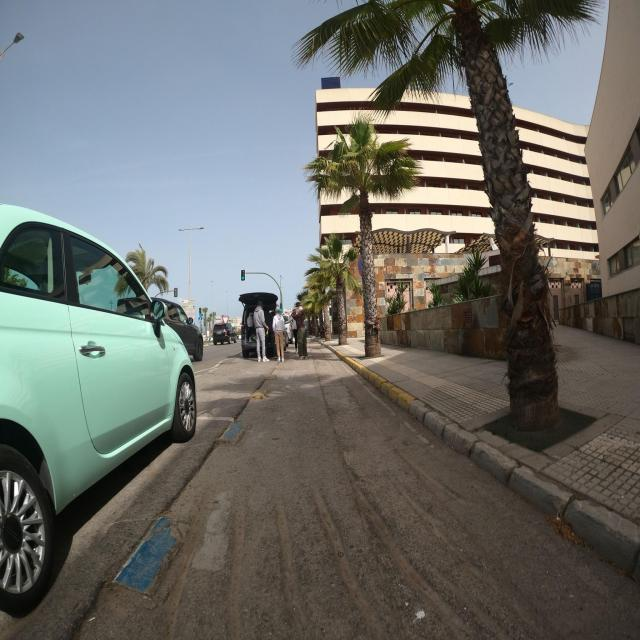forb_stopping: (358, 255, 362, 276)
